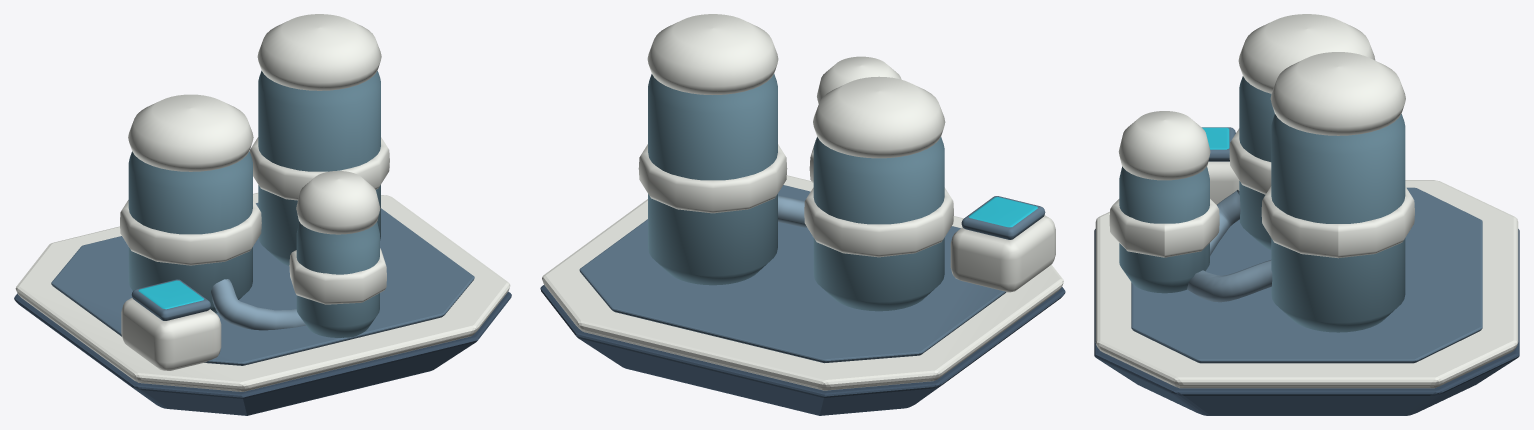
The model's file is heavy_element_refinery_lv2.glb.
3 renders of one model, left to right at view 1: azimuth 30°, elevation 25°; view 2: azimuth 150°, elevation 25°; view 3: azimuth 270°, elevation 25°, orthographic. The views are drawn at different scales.
Visible parts, largest first — view 1: Structure; view 2: Structure; view 3: Structure.
Part boxes in pixels (box(x1,y1,x2,y2)): Structure: box(14, 14, 511, 415); Structure: box(540, 14, 1065, 415); Structure: box(1094, 14, 1519, 415).
Bounding box in the file's own units: 6.41 × 4.6 × 5.71.
